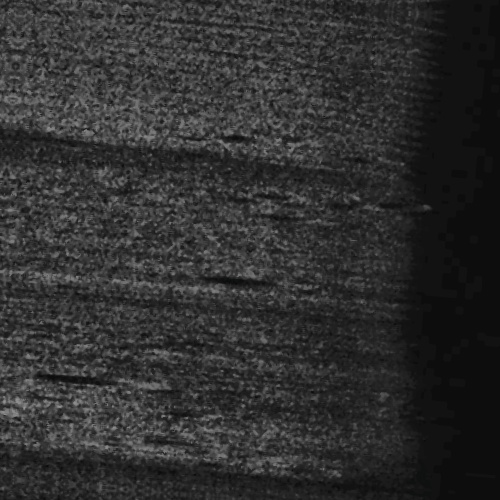object: (271, 276, 344, 283), (86, 389, 149, 396)
shadow: (210, 276, 307, 283), (54, 389, 117, 396)
